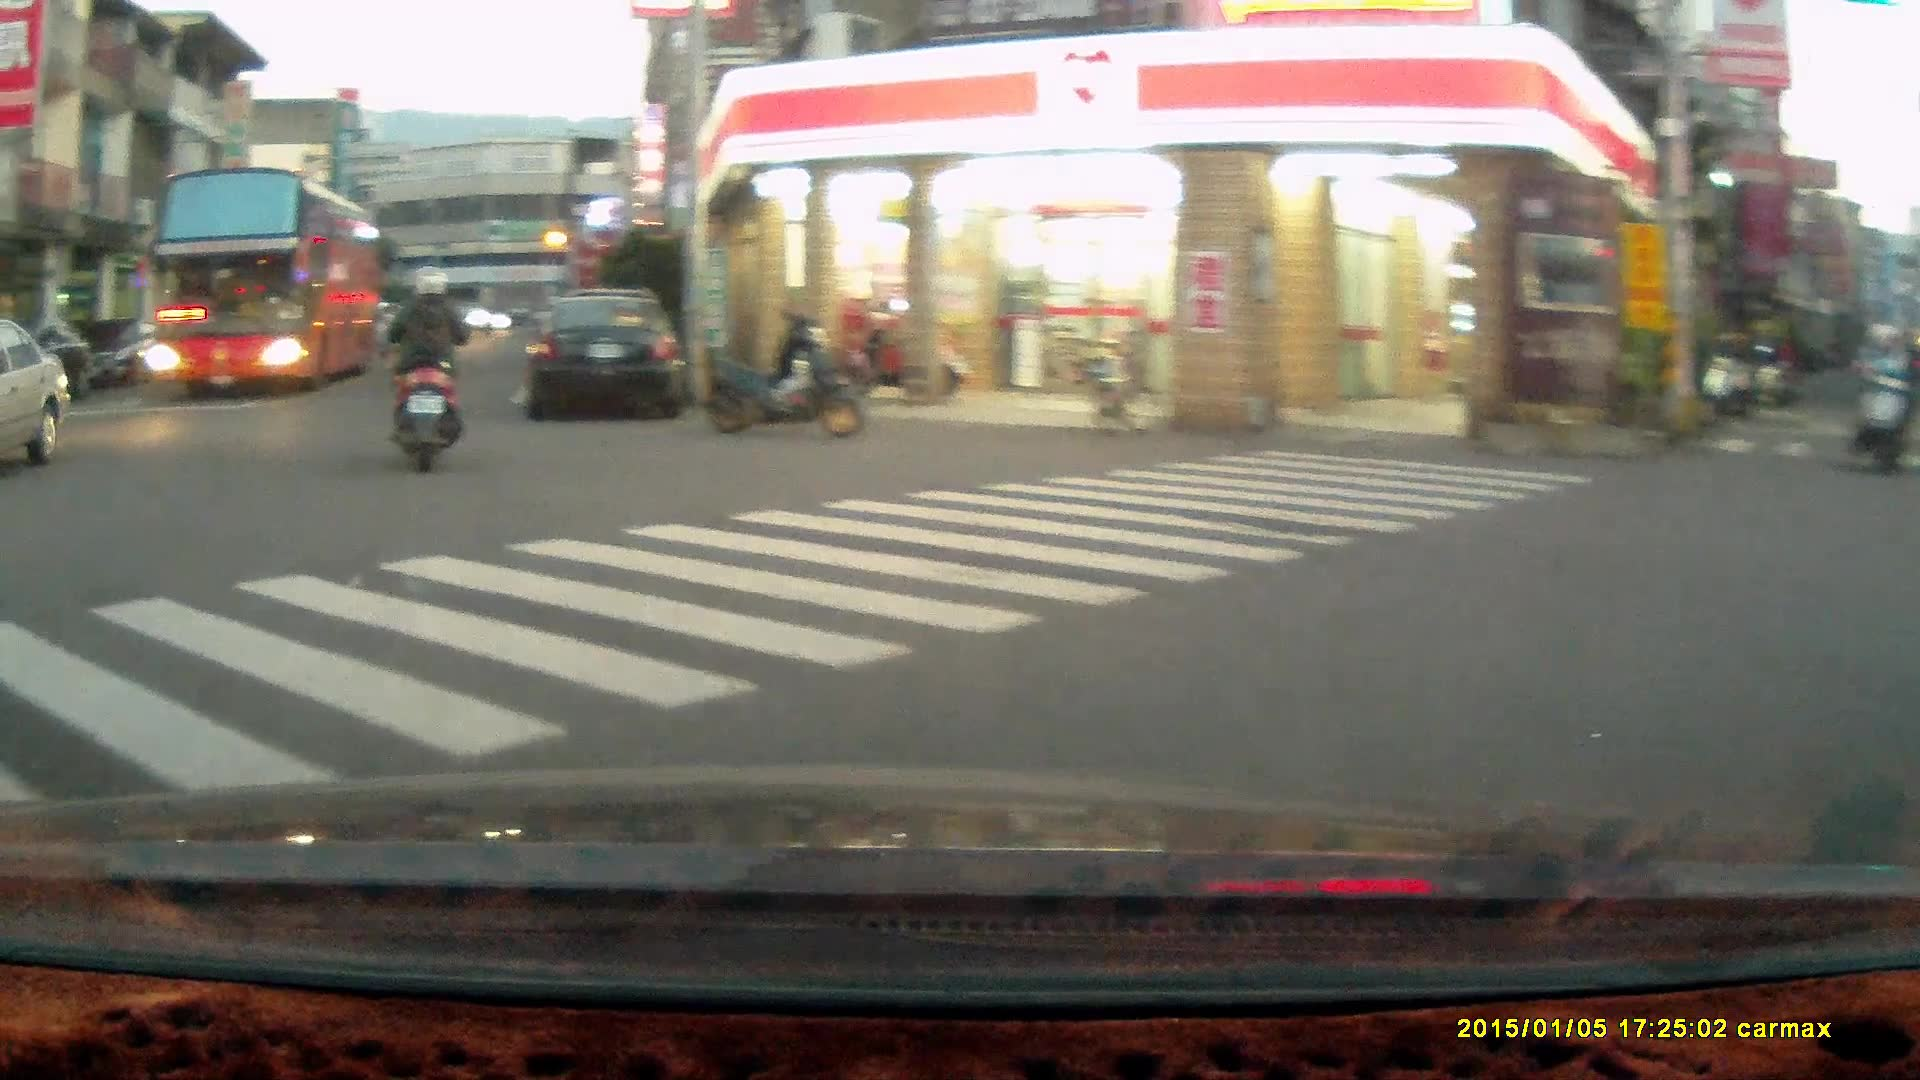rider: (381, 261, 475, 472), (1846, 317, 1917, 475)
vehicle: (149, 163, 395, 395), (523, 289, 691, 420)
